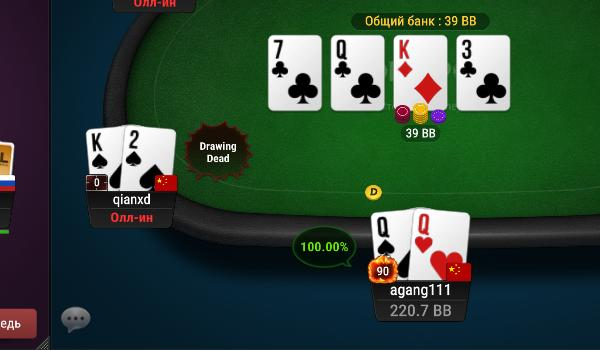2s: (123, 125, 175, 193)
3c: (458, 36, 510, 107)
7c: (270, 36, 320, 109)
Kd: (395, 36, 447, 110)
Ks: (86, 128, 123, 189)
Qc: (332, 35, 382, 110)
Qh: (412, 208, 470, 281)
Qs: (370, 209, 412, 280)
